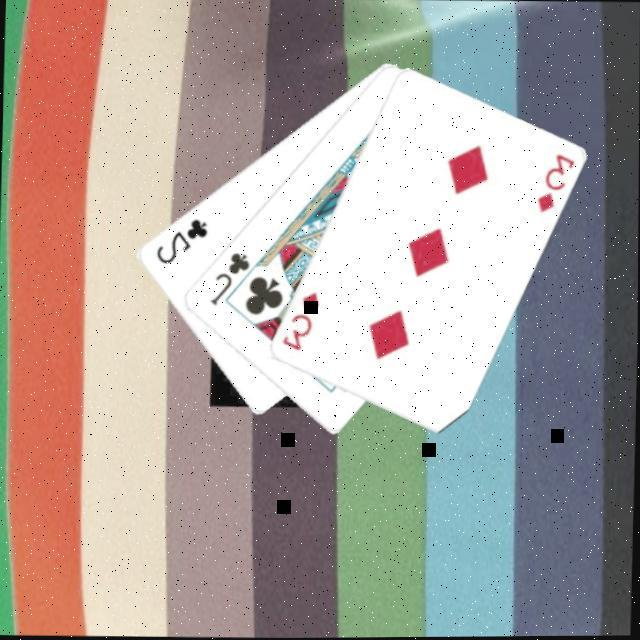2C: (150, 212, 210, 266)
3D: (277, 286, 321, 352), (532, 149, 576, 215)
JC: (204, 246, 252, 307)
